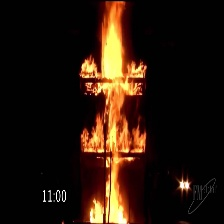fire: (74, 4, 149, 224)
